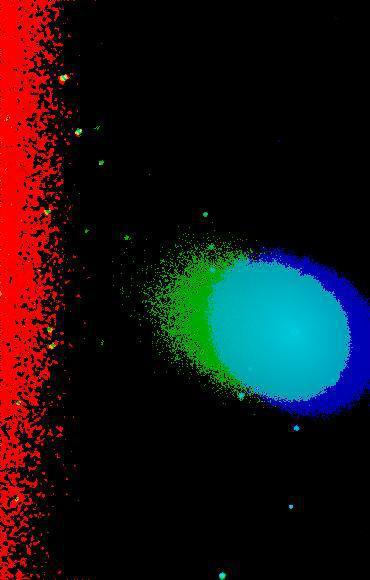star: (212, 367, 242, 397)
